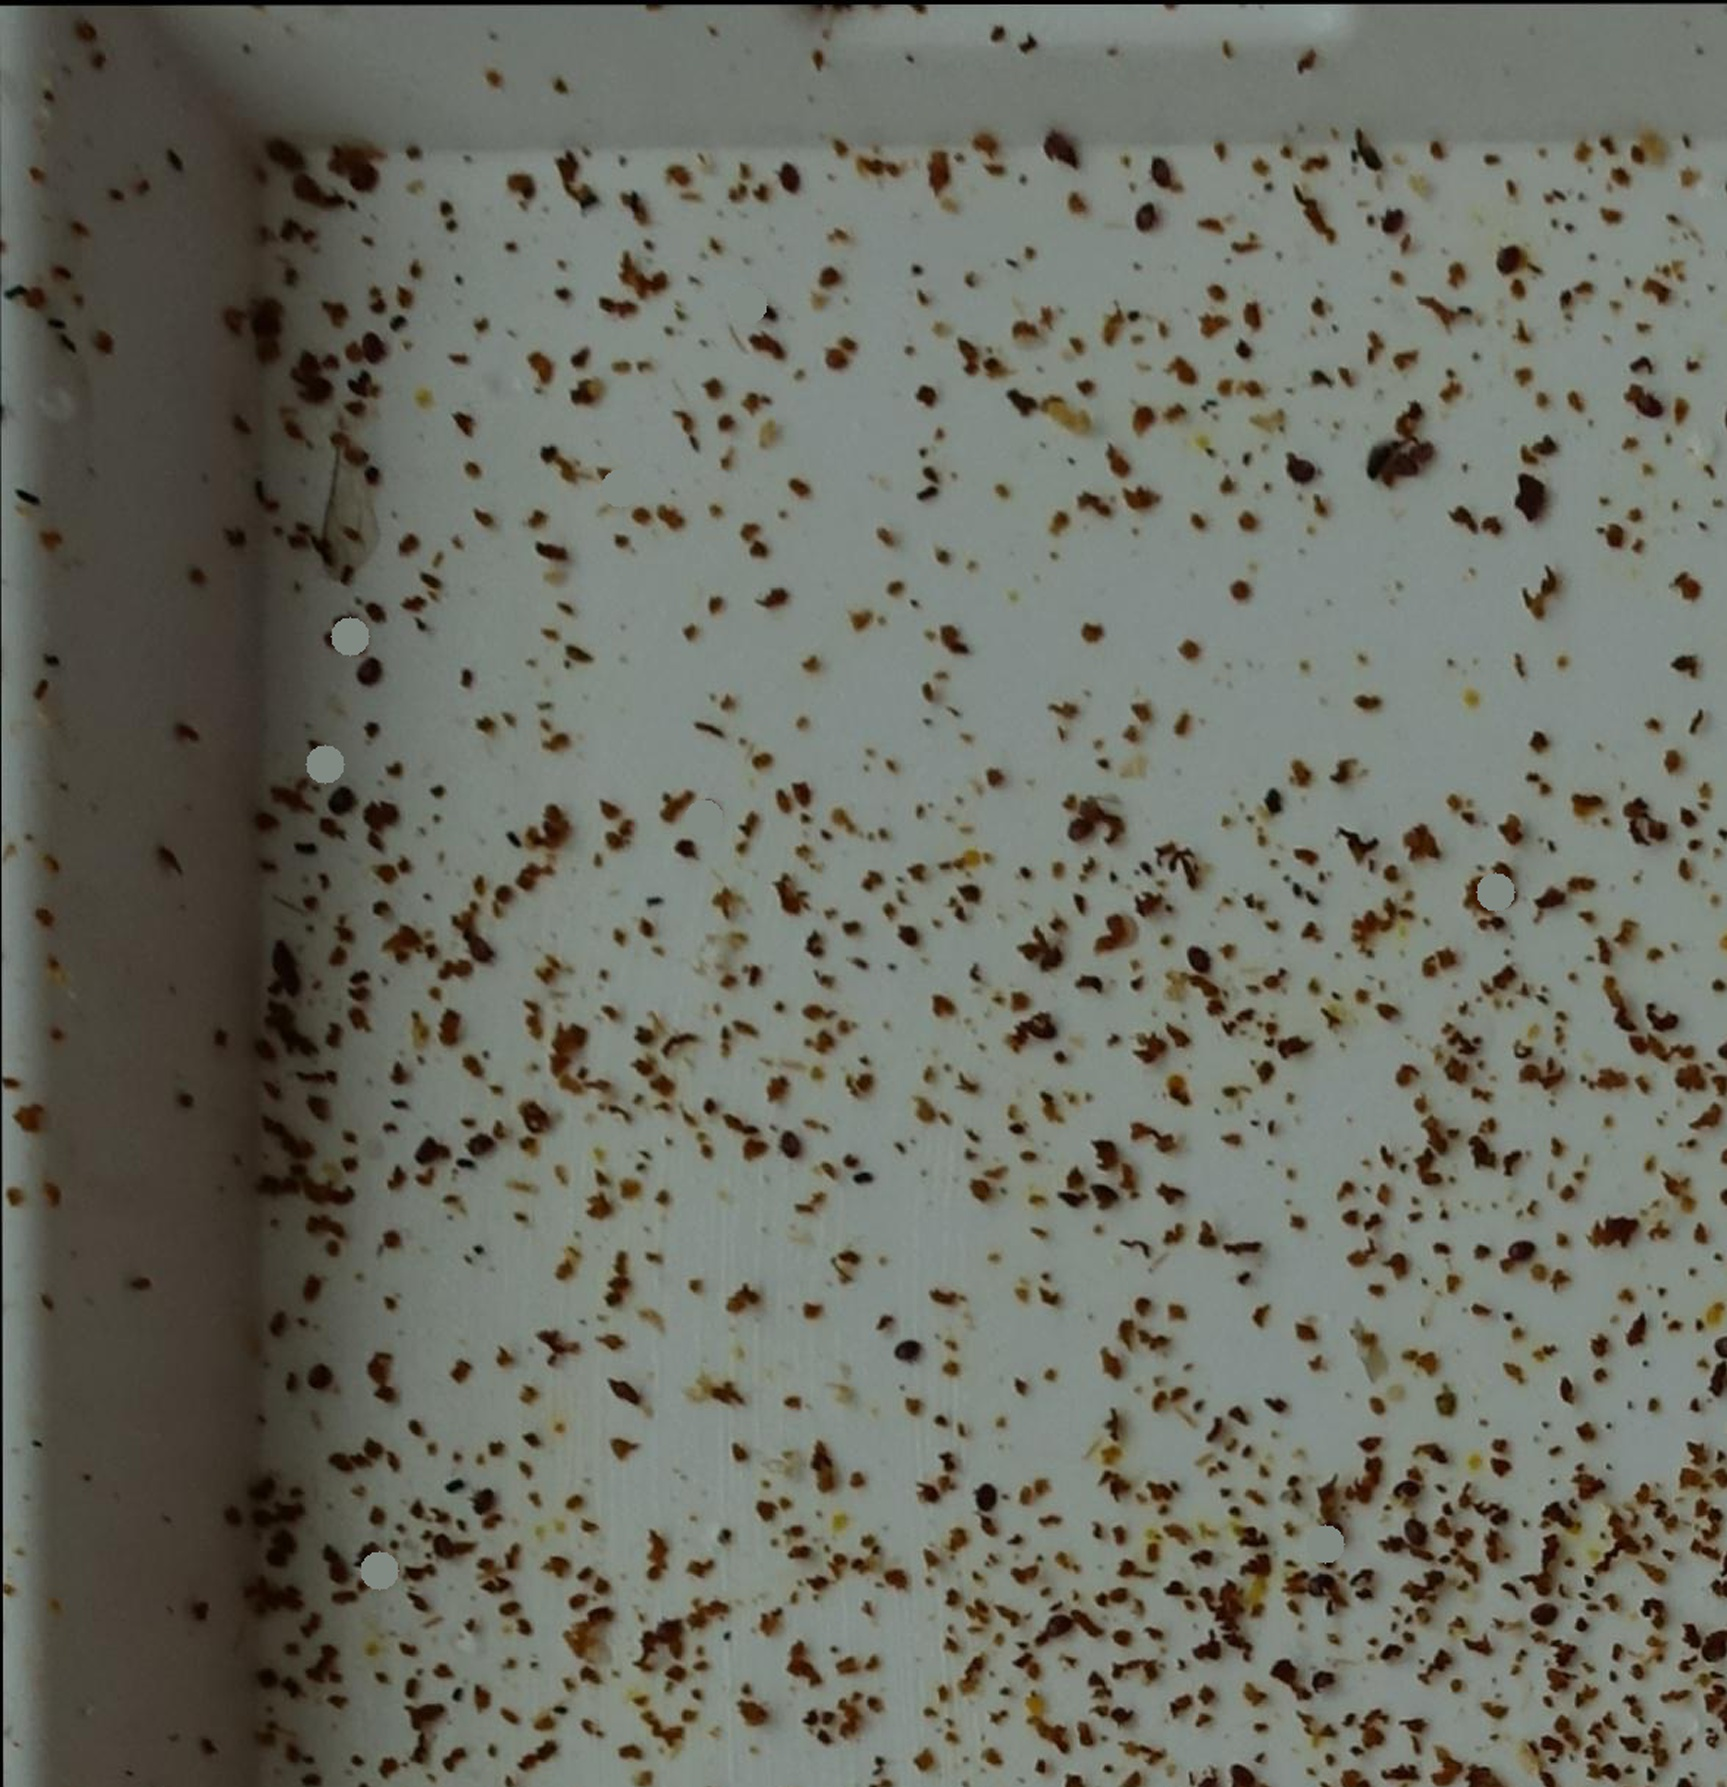Varroa: (402, 1126, 447, 1173), (1301, 1658, 1346, 1702), (1382, 444, 1427, 487), (458, 1123, 503, 1166), (1082, 1170, 1125, 1214), (1036, 1604, 1081, 1647), (1299, 1564, 1342, 1608), (322, 788, 356, 825), (345, 161, 377, 196), (361, 332, 391, 365), (437, 1533, 466, 1568), (972, 1477, 1001, 1513), (776, 164, 806, 196), (305, 1359, 335, 1390), (353, 656, 381, 688), (1148, 161, 1176, 191), (776, 1139, 804, 1170), (1392, 1521, 1419, 1552), (1497, 247, 1524, 278), (1382, 214, 1409, 244), (472, 1490, 500, 1521), (1128, 212, 1157, 239), (1395, 1479, 1422, 1508), (1508, 1241, 1535, 1268), (1638, 393, 1665, 420), (1291, 456, 1317, 483), (1069, 819, 1095, 846), (1532, 1597, 1556, 1623), (895, 1334, 919, 1359), (982, 1500, 1006, 1525), (1189, 945, 1213, 968)
